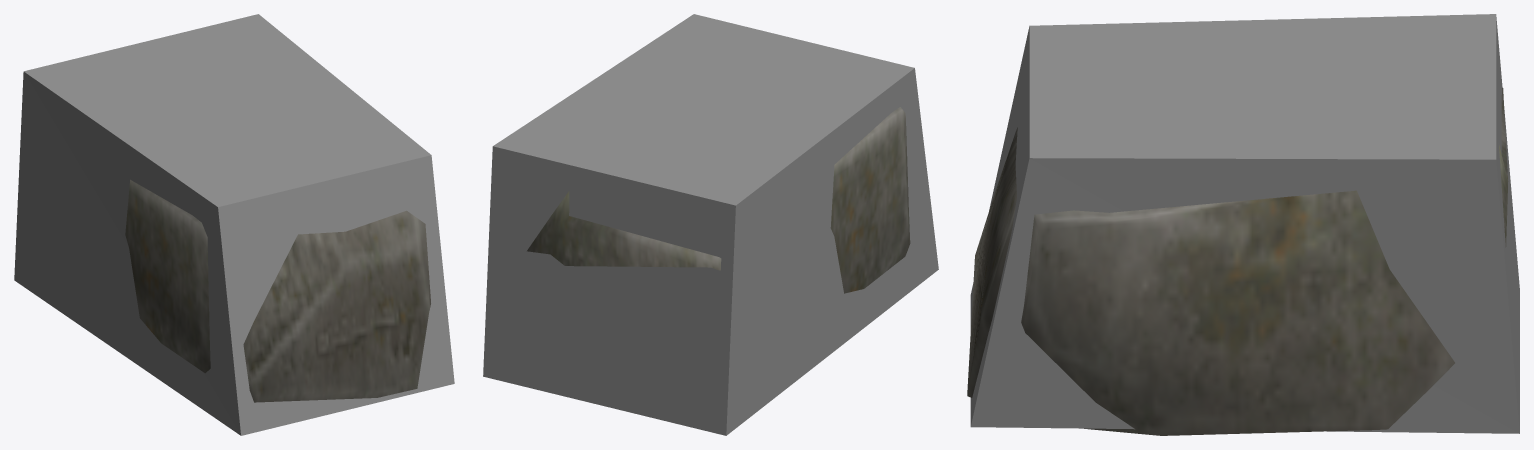
Rendered from Scene_Rock_TianShan_SuiShiTi_5.FBX.
3 views of the same model, side by side, from view 1: azimuth 30°, elevation 25°; view 2: azimuth 150°, elevation 25°; view 3: azimuth 270°, elevation 25° (orthographic). The views are drawn at different scales.
Parts seen in each view (by area): view 1: Scene_Rock_TianShan_SuiShiTi_5_Xzm, Scene_Rock_TianShan_SuiShiTi_5; view 2: Scene_Rock_TianShan_SuiShiTi_5_Xzm, Scene_Rock_TianShan_SuiShiTi_5; view 3: Scene_Rock_TianShan_SuiShiTi_5_Xzm, Scene_Rock_TianShan_SuiShiTi_5.
Boxes of the visible parts, <box> form: Scene_Rock_TianShan_SuiShiTi_5_Xzm: <box>14,14,454,435</box>; Scene_Rock_TianShan_SuiShiTi_5: <box>125,179,430,402</box>; Scene_Rock_TianShan_SuiShiTi_5_Xzm: <box>483,14,938,435</box>; Scene_Rock_TianShan_SuiShiTi_5: <box>527,107,910,293</box>; Scene_Rock_TianShan_SuiShiTi_5_Xzm: <box>970,14,1519,433</box>; Scene_Rock_TianShan_SuiShiTi_5: <box>967,87,1508,435</box>.
Size of the model in its own units: 50.19 by 44.86 by 80.47.
